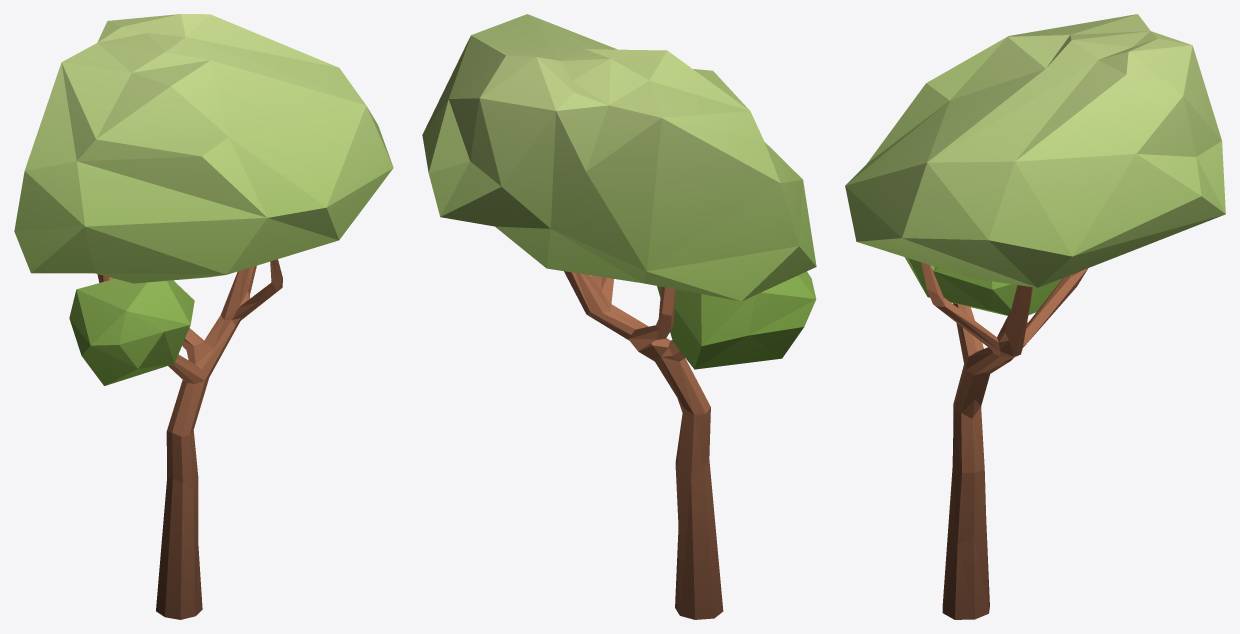
The model's file is tree-2.glb.
The picture shows the model from 3 angles, left to right: view 1: azimuth 30°, elevation 25°; view 2: azimuth 150°, elevation 25°; view 3: azimuth 270°, elevation 25°; orthographic projection. The views are drawn at different scales.
Visible parts, largest first — view 1: tree 2; view 2: tree 2; view 3: tree 2.
Part boxes in pixels (x1=…): tree 2: x1=14, y1=14, x2=393, y2=619; tree 2: x1=422, y1=14, x2=816, y2=619; tree 2: x1=845, y1=14, x2=1225, y2=619.
Size of the model in its own units: 4.13 by 6.18 by 3.56.
Materials: 1 (1 with a texture image).
